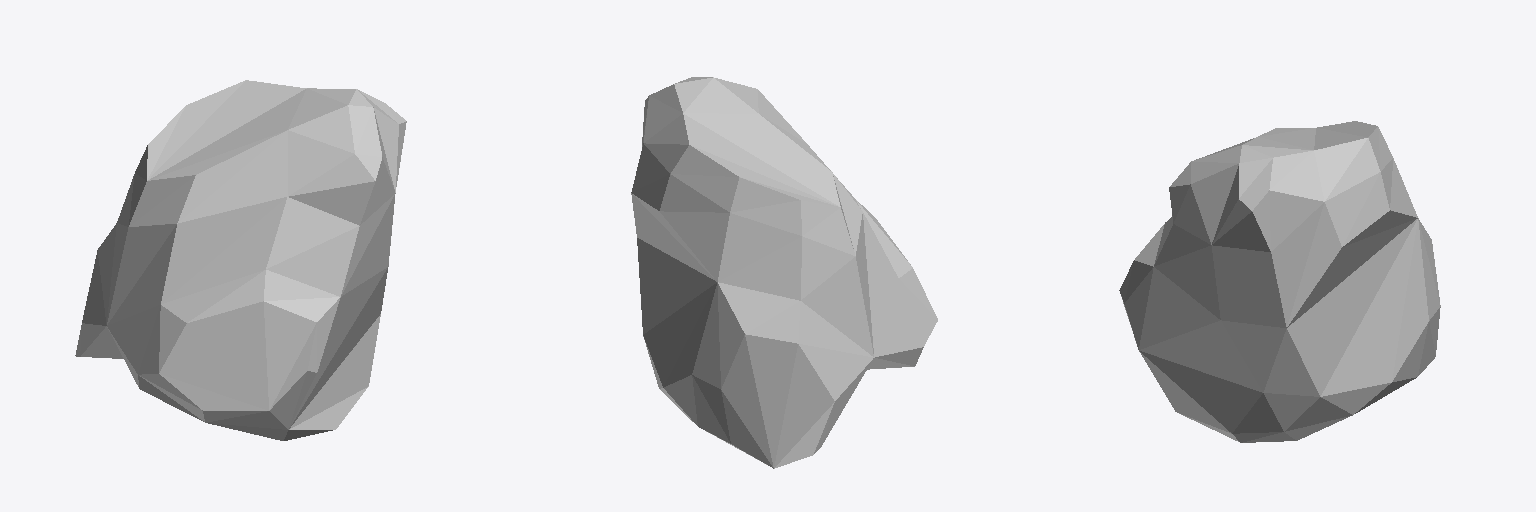
The model's file is Roca5.obj.
The picture shows the model from 3 angles: view 1: azimuth 30°, elevation 25°; view 2: azimuth 150°, elevation 25°; view 3: azimuth 270°, elevation 25°; orthographic projection.
Parts seen in each view (by area): view 1: Icosphere; view 2: Icosphere; view 3: Icosphere.
Part boxes in pixels (left/top/right/bottom): Icosphere: left=75, top=80, right=406, bottom=440; Icosphere: left=631, top=77, right=937, bottom=468; Icosphere: left=1119, top=121, right=1440, bottom=442.
Size of the model in its own units: 1.7 by 1.74 by 1.73.